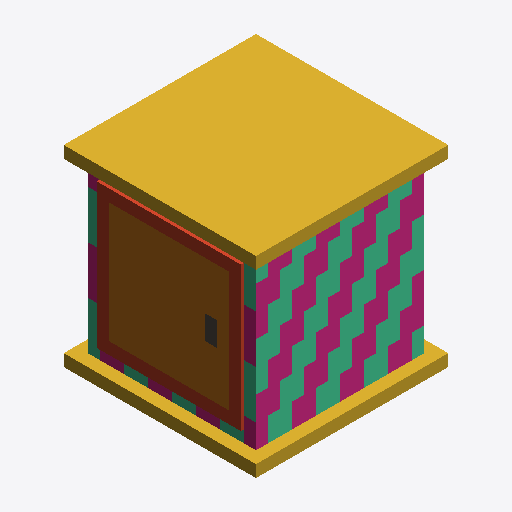
A Minecraft block model of 5 cuboids, rendered isometrically (azimuth 45°, elevation 35.3°) with the resource pack's own textures.
Visible parts, largest first — element 2, element 3, element 4, element 1.
Boxes of the visible parts, x1,y1,x2,y2 form: element 2: [64, 34, 447, 269]; element 3: [88, 173, 423, 449]; element 4: [97, 180, 243, 430]; element 1: [64, 339, 447, 477].
Bounding box in the file's own units: 16 × 16 × 16.